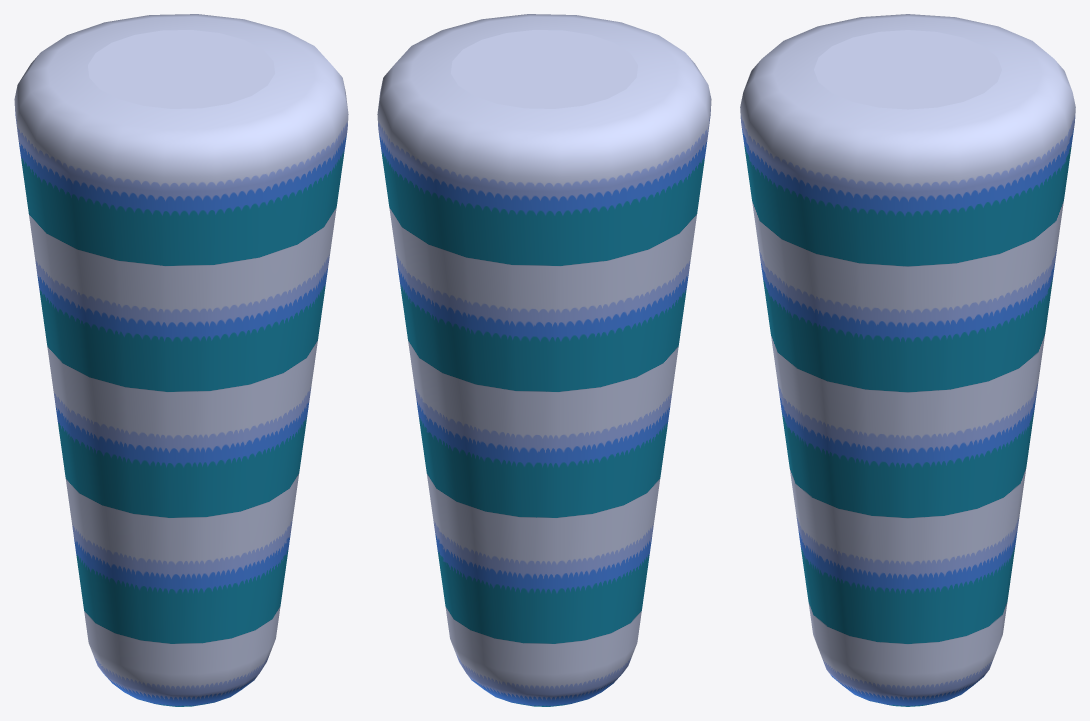
File: ConeDown.fbx
3 renders of one model, left to right at view 1: azimuth 30°, elevation 25°; view 2: azimuth 150°, elevation 25°; view 3: azimuth 270°, elevation 25°, orthographic.
Parts seen in each view (by area): view 1: ConeFlipped; view 2: ConeFlipped; view 3: ConeFlipped.
Part boxes in pixels (box(x1,y1,x2,y2)): ConeFlipped: box(14, 14, 348, 706); ConeFlipped: box(377, 14, 711, 706); ConeFlipped: box(740, 14, 1075, 706).
Size of the model in its own units: 536 by 1097 by 536.
Materials: 1 (1 with a texture image).
